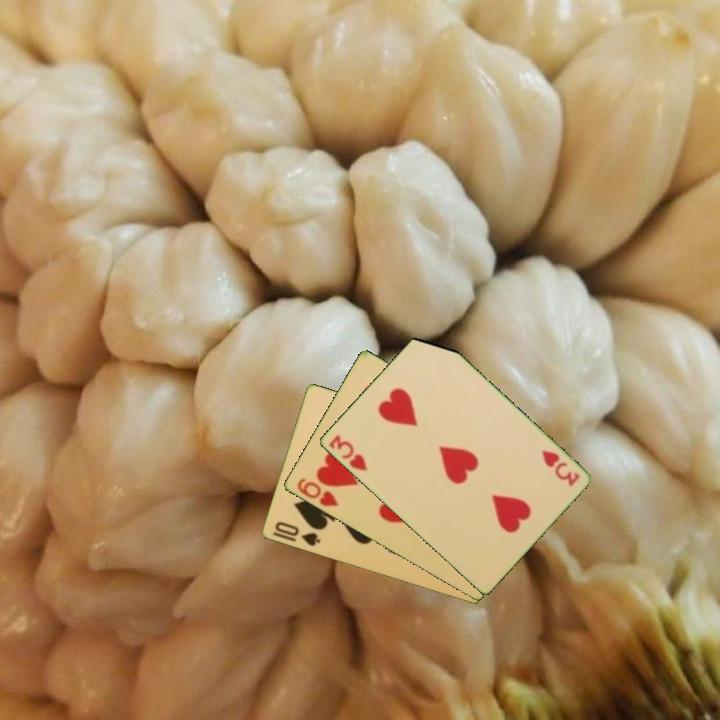10s: (271, 518, 323, 549)
3h: (537, 446, 583, 489), (325, 431, 370, 474)
6h: (293, 475, 341, 510)
